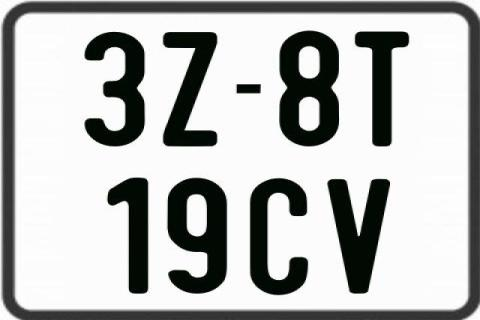0: (278, 29, 344, 149), (85, 30, 150, 148), (167, 175, 229, 296), (106, 177, 152, 297)
C: (249, 177, 312, 297)
T: (355, 29, 414, 144)
V: (325, 178, 393, 294)
Z: (161, 32, 219, 150)
